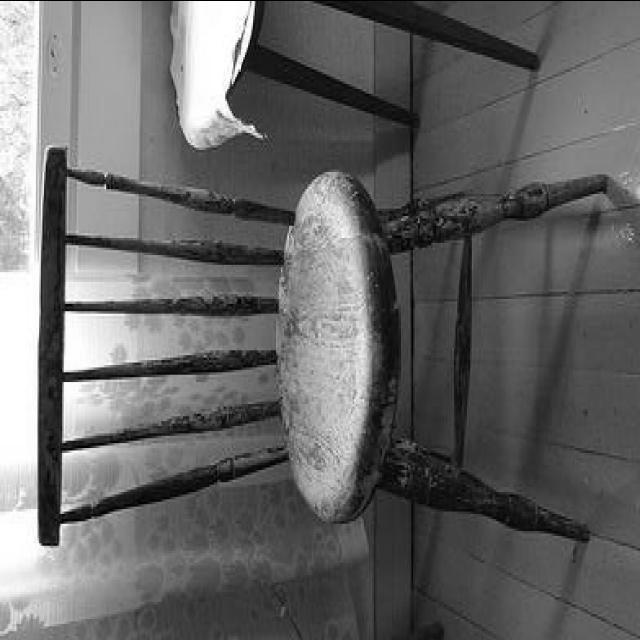chair: (32, 156, 606, 554)
